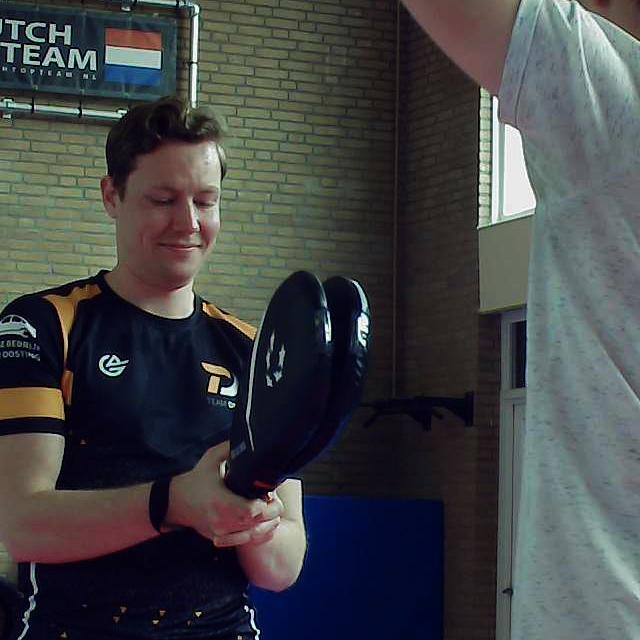paddle: (217, 273, 369, 501)
